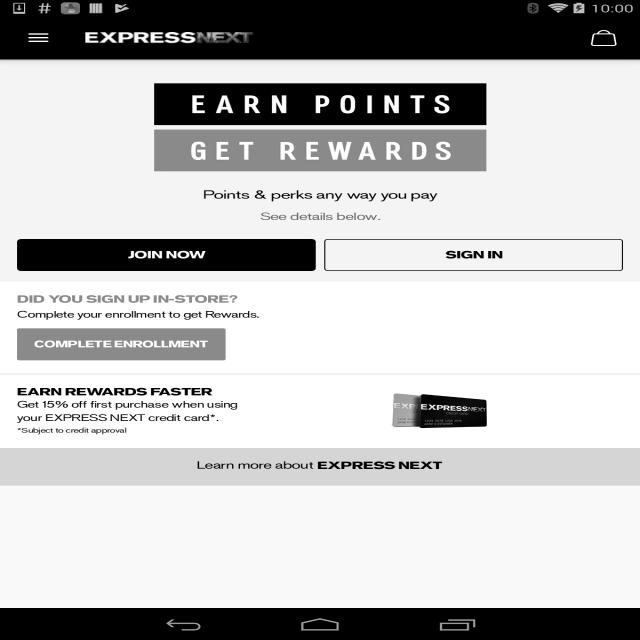Button: (17, 239, 316, 271), (324, 239, 623, 271), (17, 328, 226, 361)
ImageButton: (9, 17, 68, 59)
ImageView: (0, 84, 640, 172), (255, 392, 623, 430), (85, 32, 254, 44), (586, 27, 620, 49)
TextView: (0, 187, 640, 202), (0, 210, 640, 223), (17, 398, 238, 424), (0, 292, 238, 305), (0, 309, 260, 320), (17, 385, 213, 399), (197, 458, 317, 472), (317, 459, 443, 472), (17, 426, 127, 435)
